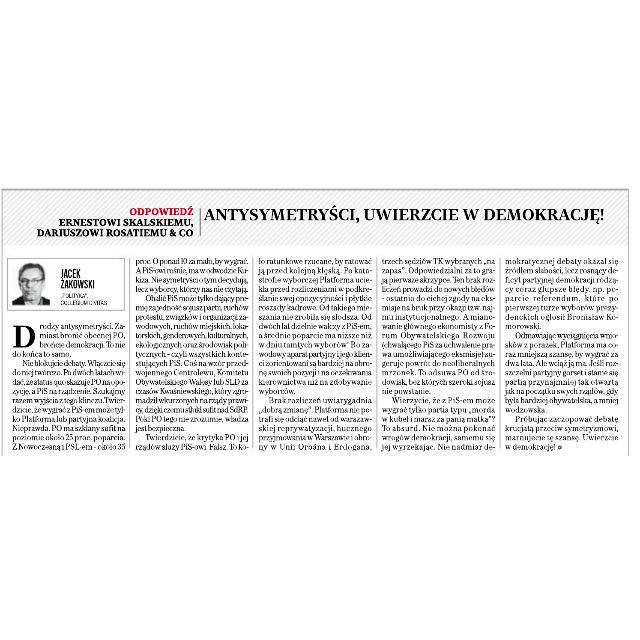author: (58, 264, 98, 290)
body: (502, 252, 620, 454), (380, 252, 498, 453), (134, 255, 252, 455), (257, 252, 373, 452), (10, 316, 128, 454)
title: (34, 201, 612, 241)
